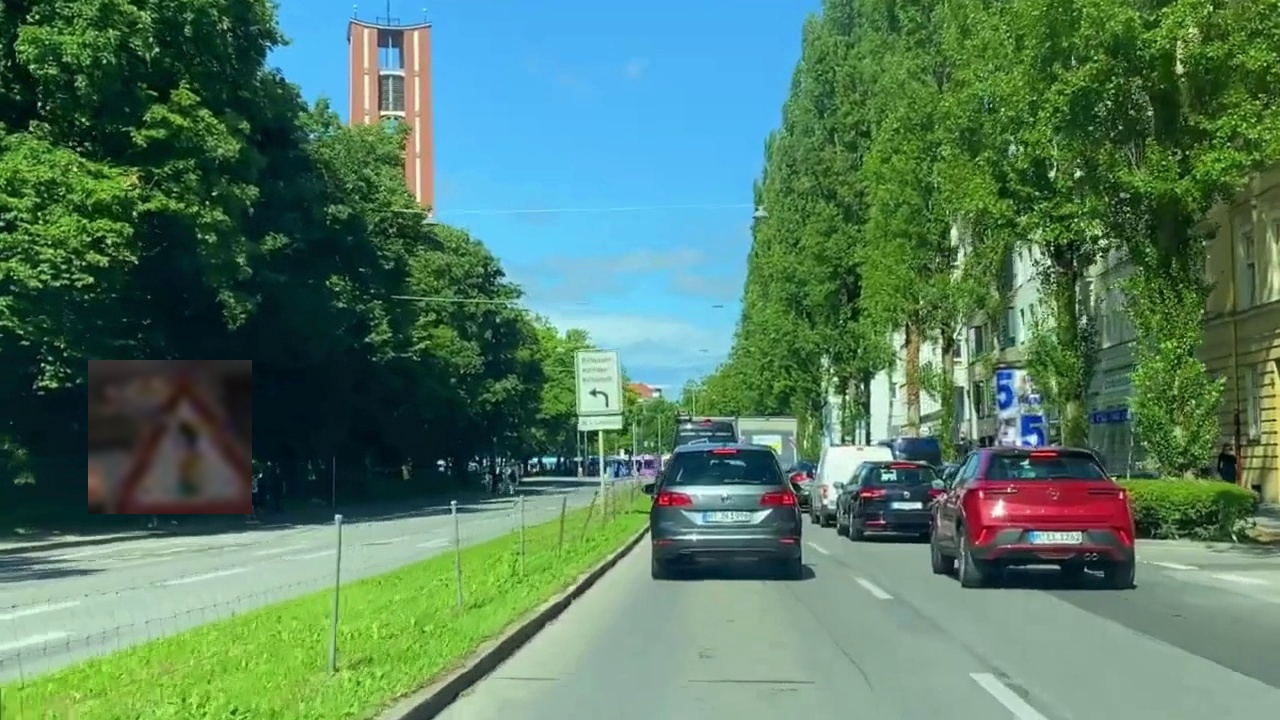Signals: (88, 360, 252, 514)
